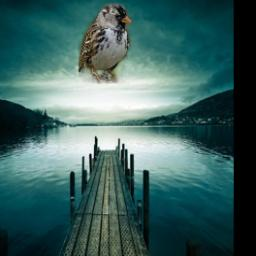Sparrow: (78, 4, 131, 85)
